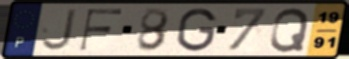7: (228, 7, 269, 53)
8: (134, 7, 170, 53)
F: (77, 7, 125, 52)
G: (175, 7, 219, 53)
J: (39, 7, 79, 53)
Q: (268, 6, 312, 54)
